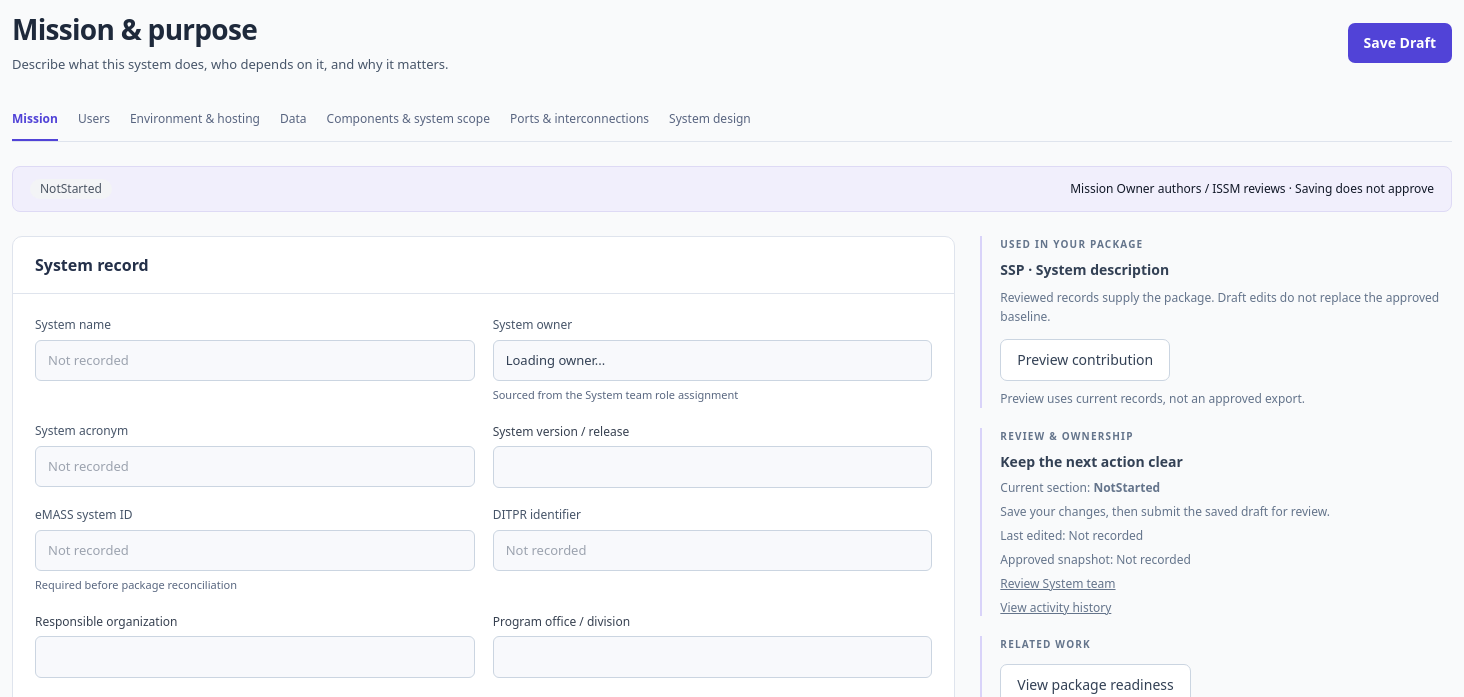
Test case: server-authoritative profile editing (#968) › retains authoring capability after save and surfaces safe server errors
What coordinates should you click on to do the following:
click the button "Save Draft"
I would click on:
 (1400, 43)
Its box is x1=1348 y1=23 x2=1452 y2=63.
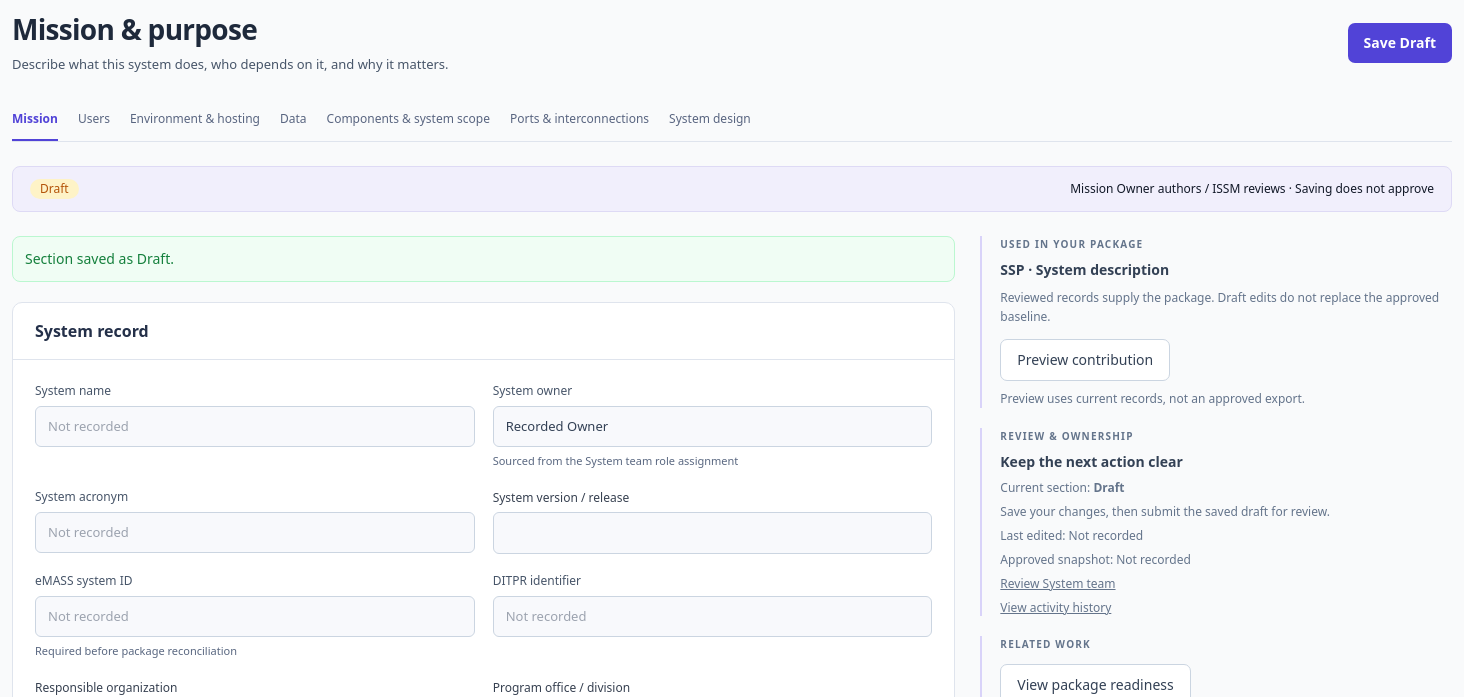
Expected: the text "Section saved as Draft." is shown, x1=12 y1=236 x2=955 y2=282
What coordinates should you click on to do the following:
click the button "Save Draft"
I would click on:
 (1400, 43)
Its box is x1=1348 y1=23 x2=1452 y2=63.
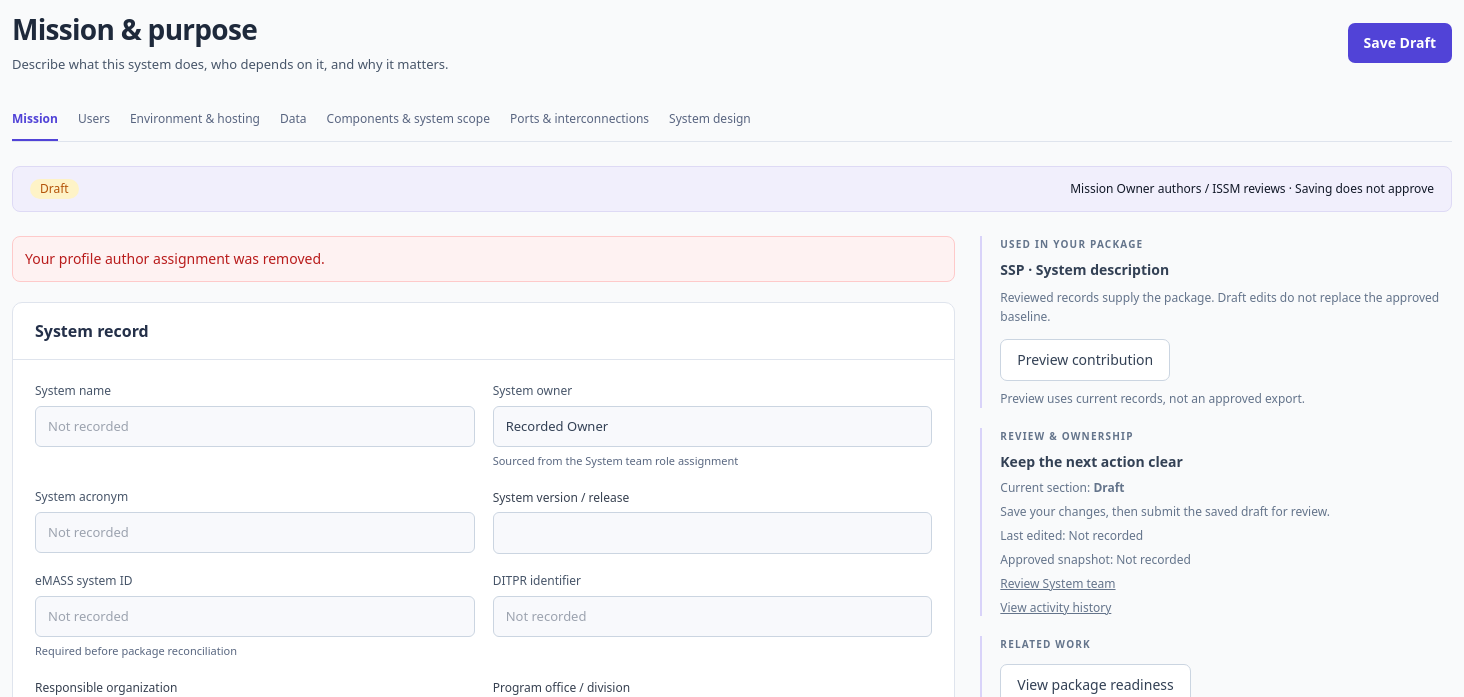
Expected: the text "Your profile author assignment was removed." is shown, x1=12 y1=236 x2=955 y2=282
Expected: the text "Section saved as Draft." is gone
